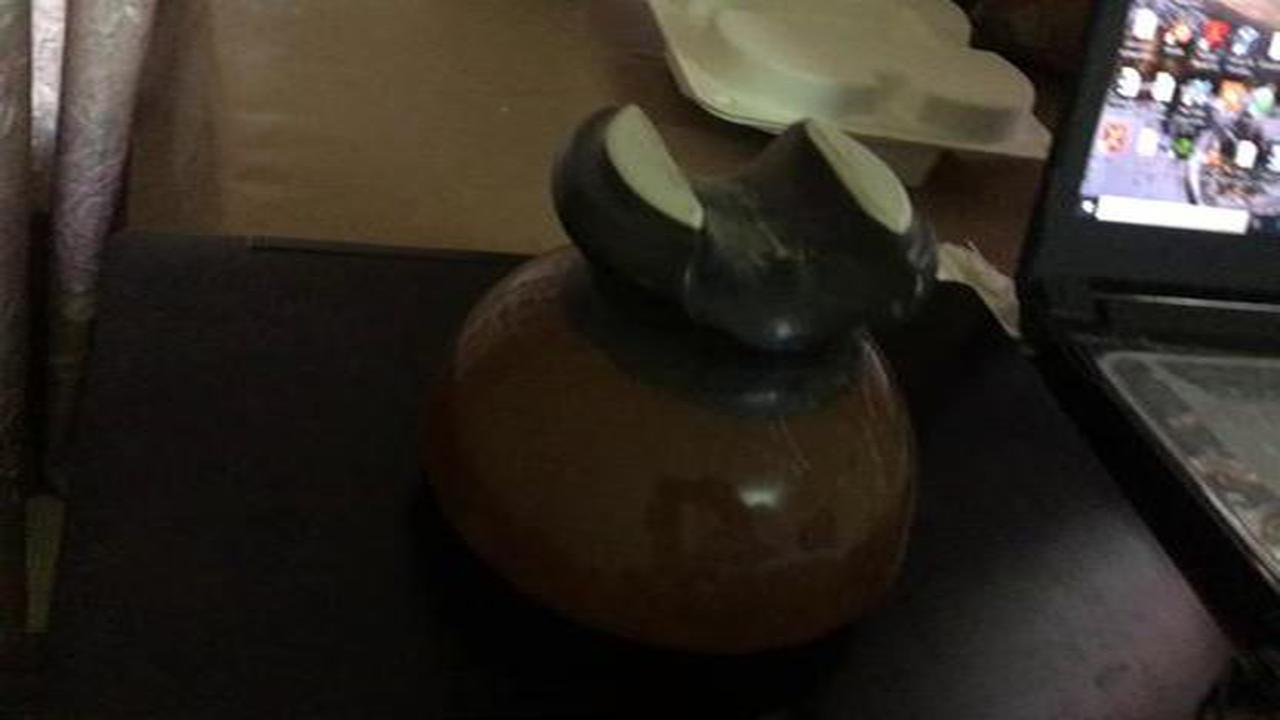insulator_pin: (410, 70, 954, 662)
